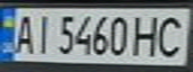0: (109, 12, 133, 57)
4: (72, 12, 93, 56)
5: (54, 11, 78, 56)
6: (90, 12, 112, 56)
A: (9, 11, 39, 55)
C: (151, 11, 190, 57)
H: (130, 11, 166, 57)
I: (30, 11, 57, 55)
